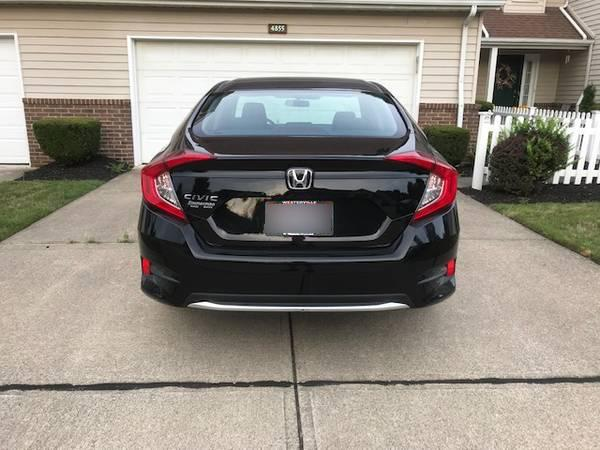Left_Taillight: (136, 152, 208, 223)
Rear_Bumper: (136, 200, 461, 311)
Rear_Windshield: (184, 89, 406, 143)
Right_Taillight: (388, 150, 458, 222)
Roof: (208, 75, 390, 98)
Tailgate: (168, 141, 426, 255)
